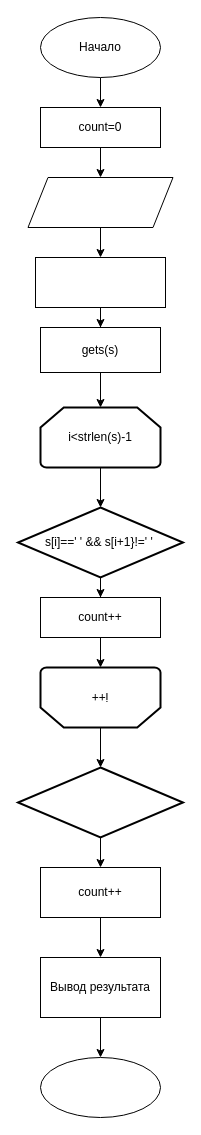
The diagram is 201 pixels wide and 1135 high, and some of its shapes have lost their labels. Each missing label, with the centre of its shape:
s[0]!=' ': point (100, 802)
slovo, i, TEXT s[20]: point (100, 202)
Ввод предложения: point (100, 282)
Конец: point (100, 1087)
